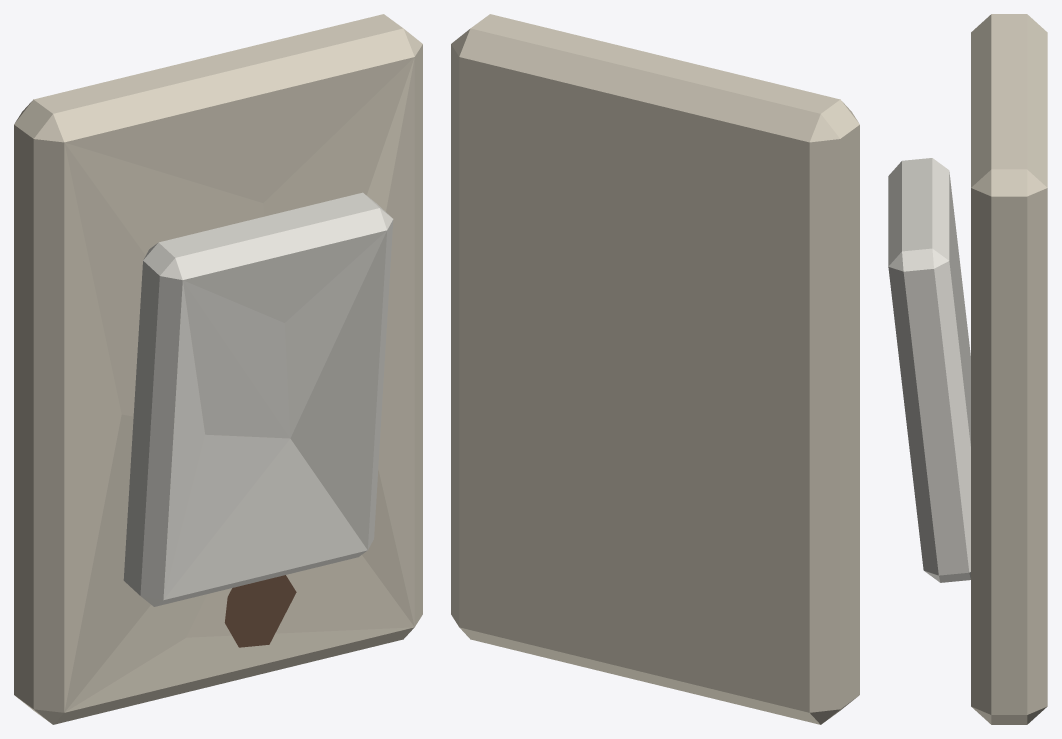
The model's file is light_switch_klavishnyy_idle.glb.
3 views of the same model, side by side, from view 1: azimuth 30°, elevation 25°; view 2: azimuth 150°, elevation 25°; view 3: azimuth 270°, elevation 25° (orthographic). The views are drawn at different scales.
Parts seen in each view (by area): view 1: light_switch_klavishnyy_idle; view 2: light_switch_klavishnyy_idle; view 3: light_switch_klavishnyy_idle.
Part boxes in pixels (box(x1,y1,x2,y2)): light_switch_klavishnyy_idle: box(14, 14, 422, 724); light_switch_klavishnyy_idle: box(451, 14, 859, 724); light_switch_klavishnyy_idle: box(888, 14, 1047, 724).
Size of the model in its own units: 0.08 by 0.12 by 0.0312.
Materials: 2 (2 with a texture image).
